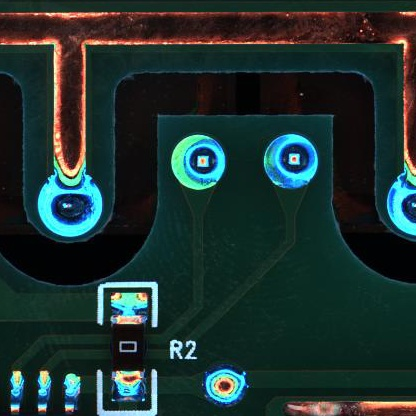spot: (38, 172, 105, 241), (171, 135, 229, 191), (263, 133, 319, 191), (200, 366, 248, 406)
